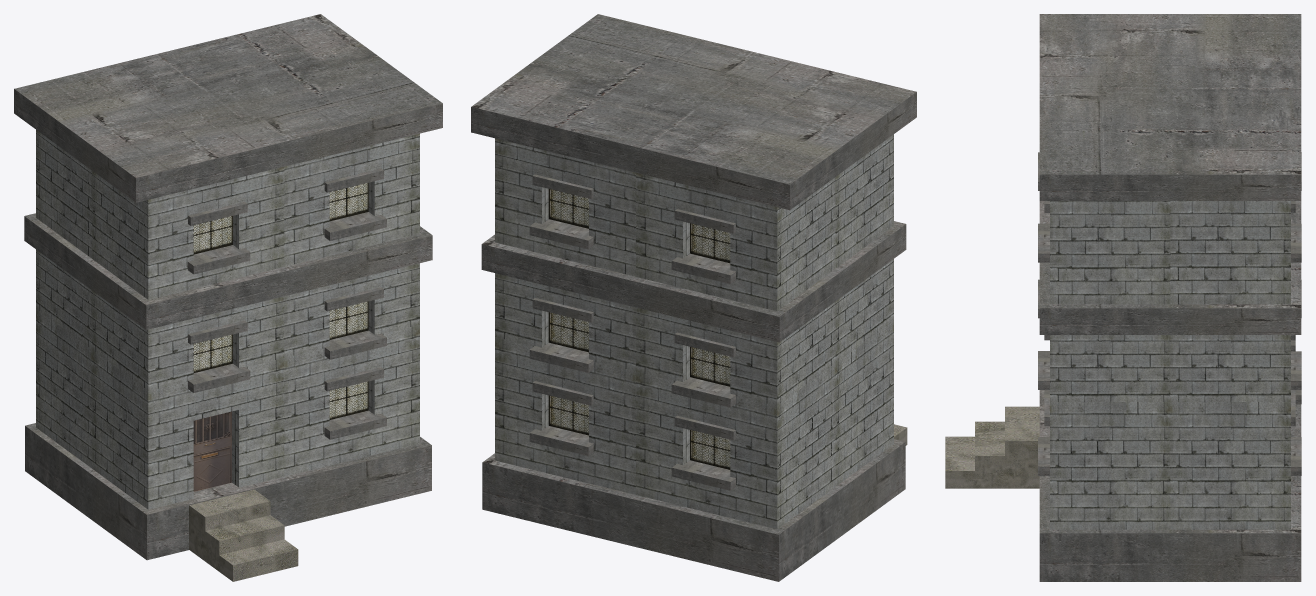
Rendered from Building01C1.fbx.
3 views of the same model, side by side, from view 1: azimuth 30°, elevation 25°; view 2: azimuth 150°, elevation 25°; view 3: azimuth 270°, elevation 25° (orthographic). The views are drawn at different scales.
Visible parts, largest first — view 1: UB; view 2: UB; view 3: UB.
Part boxes in pixels (x1,y1,x2,y2): UB: (14, 14, 442, 581); UB: (471, 14, 916, 581); UB: (945, 14, 1301, 581).
Bounding box in the file's own units: 5.58 × 6.69 × 5.24.
